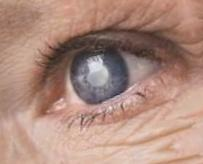eye: (70, 46, 128, 106)
